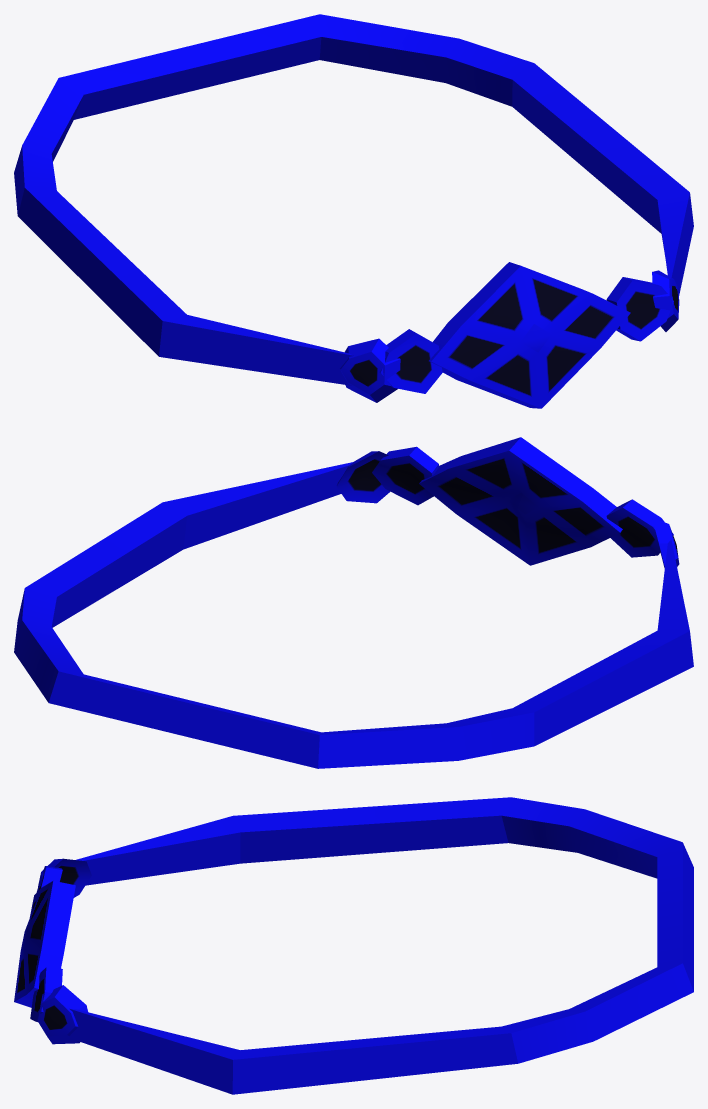
File: Circlet_F.fbx
3 renders of one model, top to bottom at view 1: azimuth 30°, elevation 25°; view 2: azimuth 150°, elevation 25°; view 3: azimuth 270°, elevation 25°, orthographic. The views are drawn at different scales.
Parts seen in each view (by area): view 1: Circlet_F; view 2: Circlet_F; view 3: Circlet_F.
Part boxes in pixels (x1=…): Circlet_F: x1=14, y1=14, x2=693, y2=408; Circlet_F: x1=14, y1=437, x2=693, y2=768; Circlet_F: x1=14, y1=797, x2=693, y2=1094.
Bounding box in the file's own units: 22.03 × 5.33 × 25.56.
